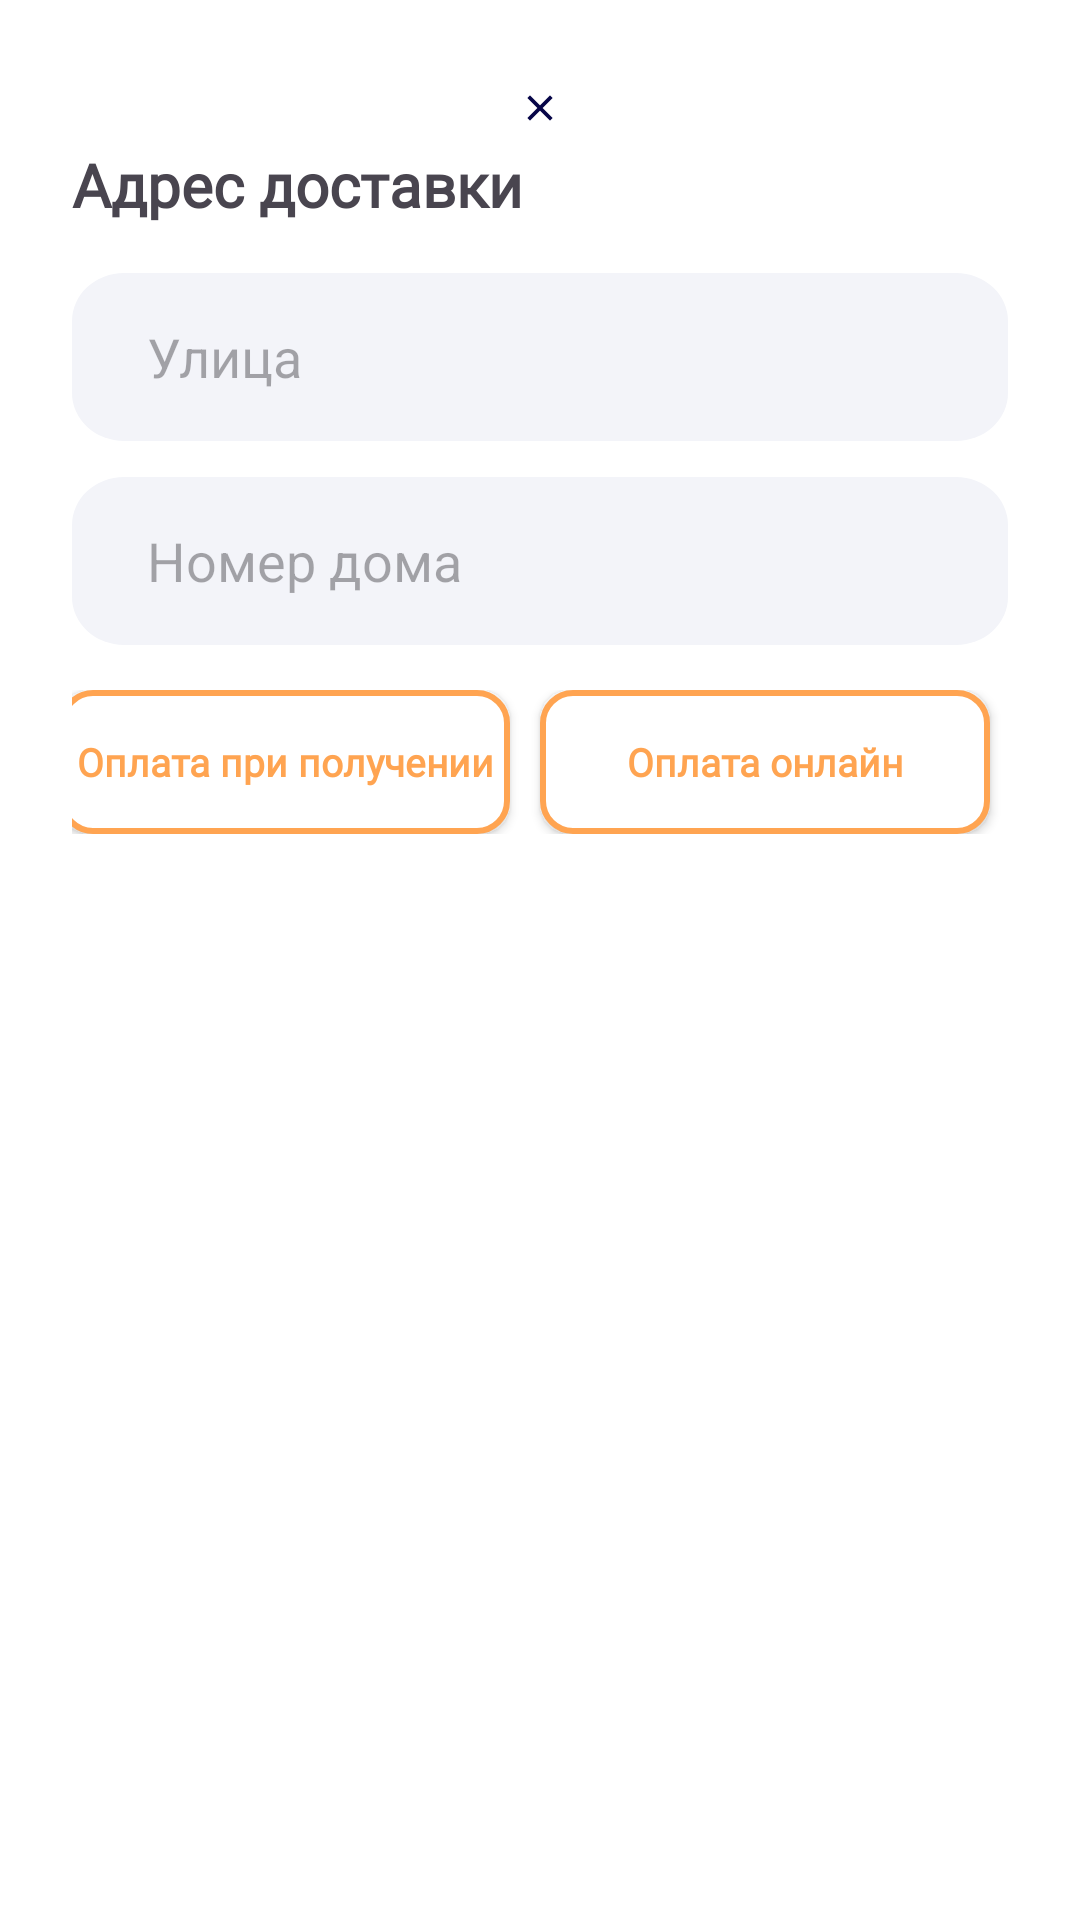

Screen size 1080×1920. Icon name, then its box in pixels as (x1, y1, x2, y2):
cancel: (527, 95, 553, 121)
